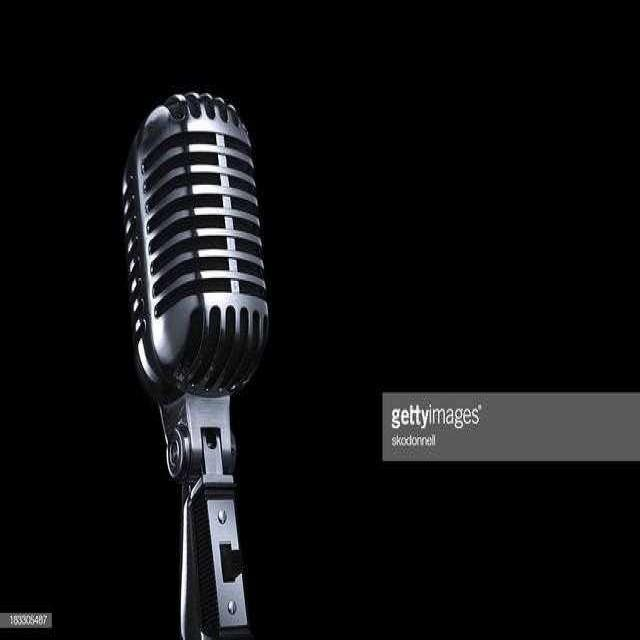microphone: (114, 88, 279, 463)
